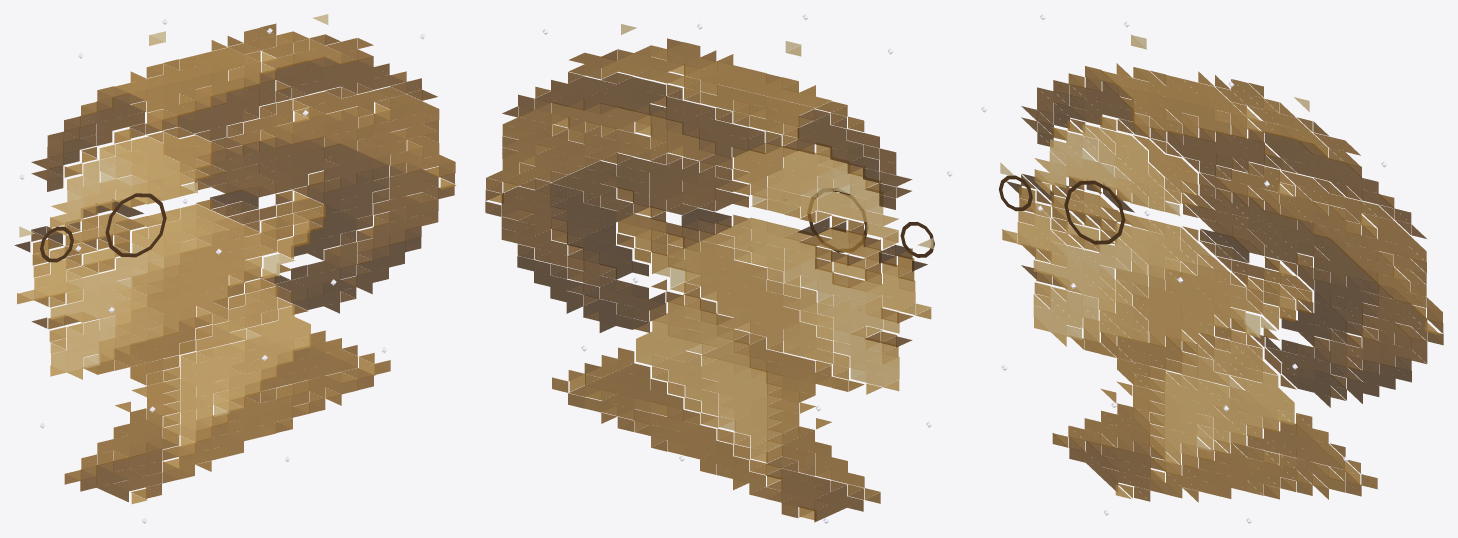
File: nancy-normal.glb
3 views of the same model, side by side, from view 1: azimuth 30°, elevation 25°; view 2: azimuth 150°, elevation 25°; view 3: azimuth 330°, elevation 25° (orthographic).
Parts seen in each view (by area): view 1: NancyPortrait_normal; view 2: NancyPortrait_normal; view 3: NancyPortrait_normal.
Boxes of the visible parts, x1,y1,x2,y2 form: NancyPortrait_normal: [14, 14, 456, 523]; NancyPortrait_normal: [485, 14, 952, 523]; NancyPortrait_normal: [981, 14, 1443, 523].
Size of the model in its own units: 1.76 by 1.87 by 0.1118.
